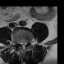CCS_normal: (22, 40, 25, 50)
LFS_severe_stenosis: (27, 39, 29, 45)
LLS_normal: (25, 40, 27, 47)
RFS_stenosis: (18, 39, 20, 46)
RLS_normal: (20, 40, 22, 47)
